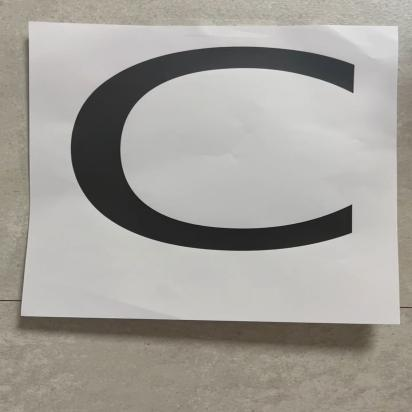seat: (39, 23, 395, 325)
